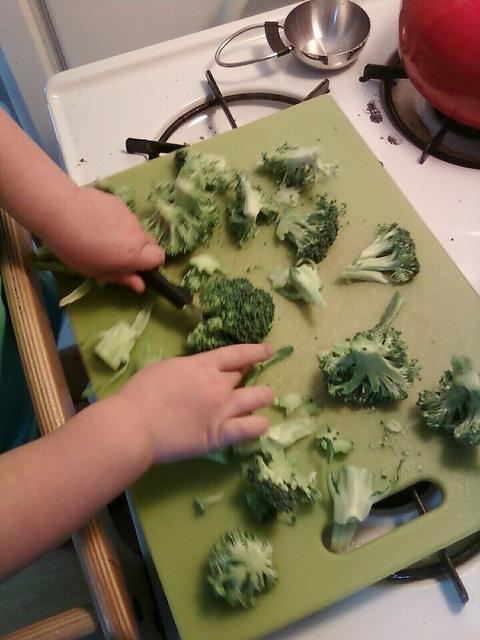broccoli: (322, 436, 411, 554), (31, 177, 136, 275), (317, 328, 421, 407), (80, 302, 155, 397), (184, 277, 274, 355), (140, 176, 221, 258), (241, 447, 322, 526), (205, 527, 279, 611), (416, 353, 480, 446), (253, 140, 340, 208), (276, 192, 347, 264), (339, 222, 420, 284), (225, 174, 279, 247), (267, 258, 327, 310), (174, 150, 234, 194), (268, 416, 318, 450), (314, 423, 354, 455), (188, 253, 228, 275), (273, 393, 303, 418), (195, 490, 224, 514), (202, 446, 230, 466), (381, 418, 401, 432)
